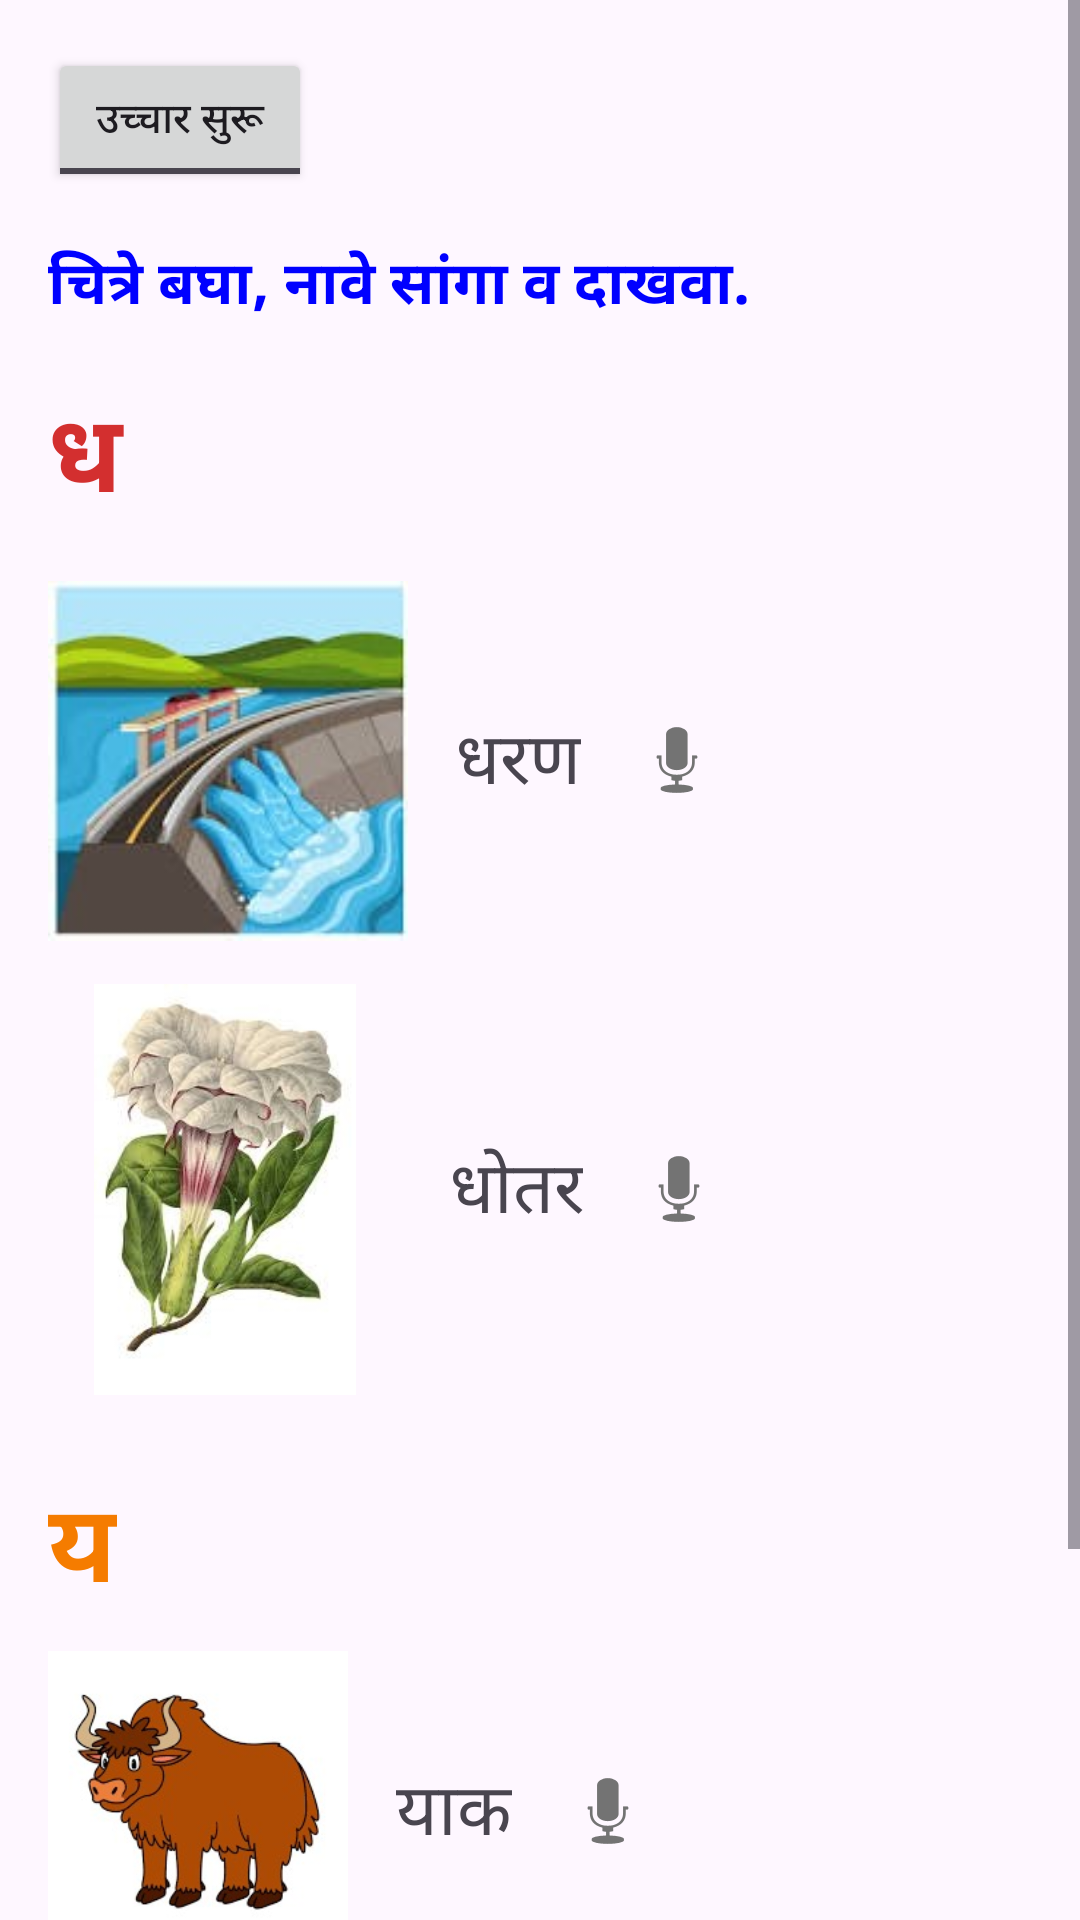

Named icons in this screenshot (1080x1920) and their centers, (x,y):
Speak Dam: (677,760)
Speak Dhotra: (679,1189)
Speak Yak: (608,1811)
